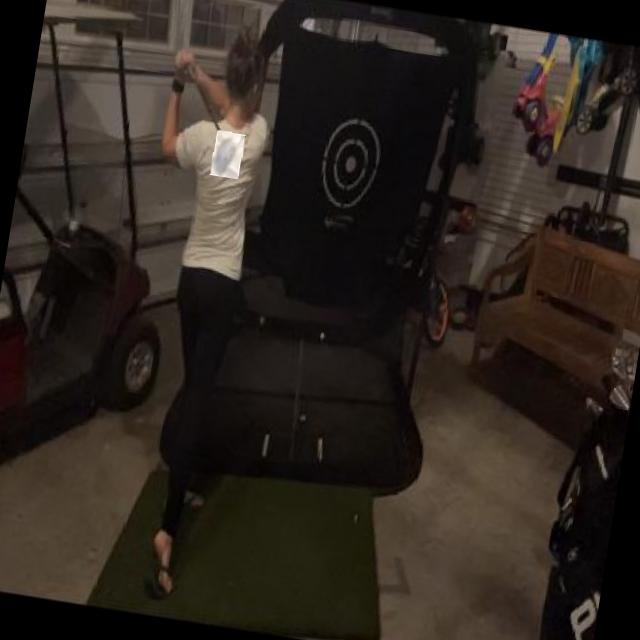club head: (210, 130, 245, 180)
